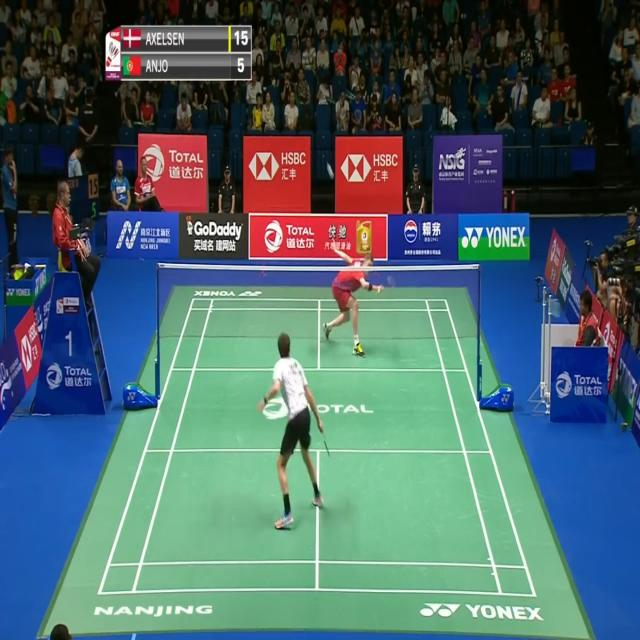Player1: (258, 325, 336, 537)
Player2: (322, 230, 392, 367)
